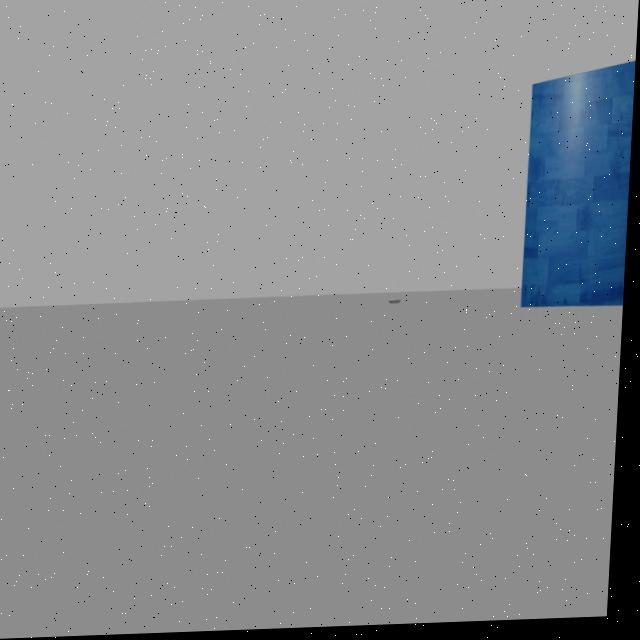bowl: (386, 292, 419, 317)
shelf: (512, 65, 637, 320)
